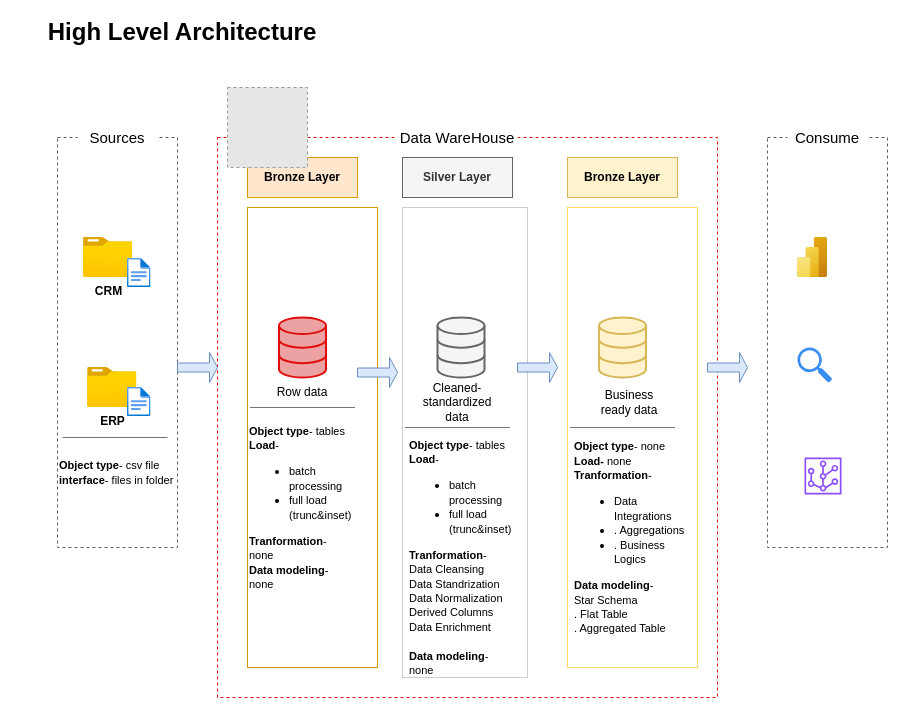
Some shapes in this 905 by 715 pixel diagram are drawn without their labels. Grey dashed boxes stand in for pictures. Each missing label, with the centre of its shape:
Ad-Hoc SQL Queries: [814,364]
BI&Reports: [812,257]
Machine Learning: [822,475]
